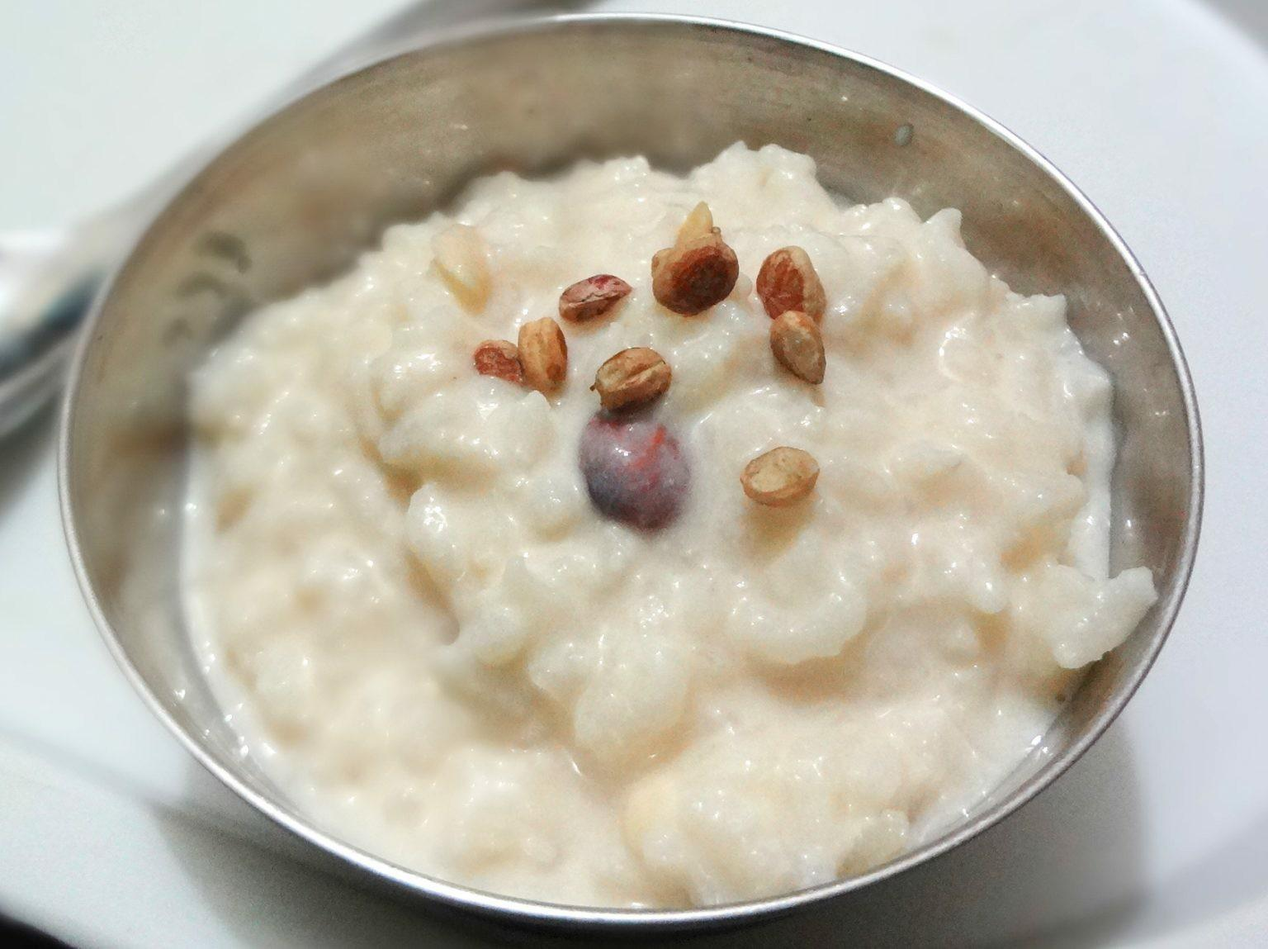Kheer: (174, 138, 1158, 907)
